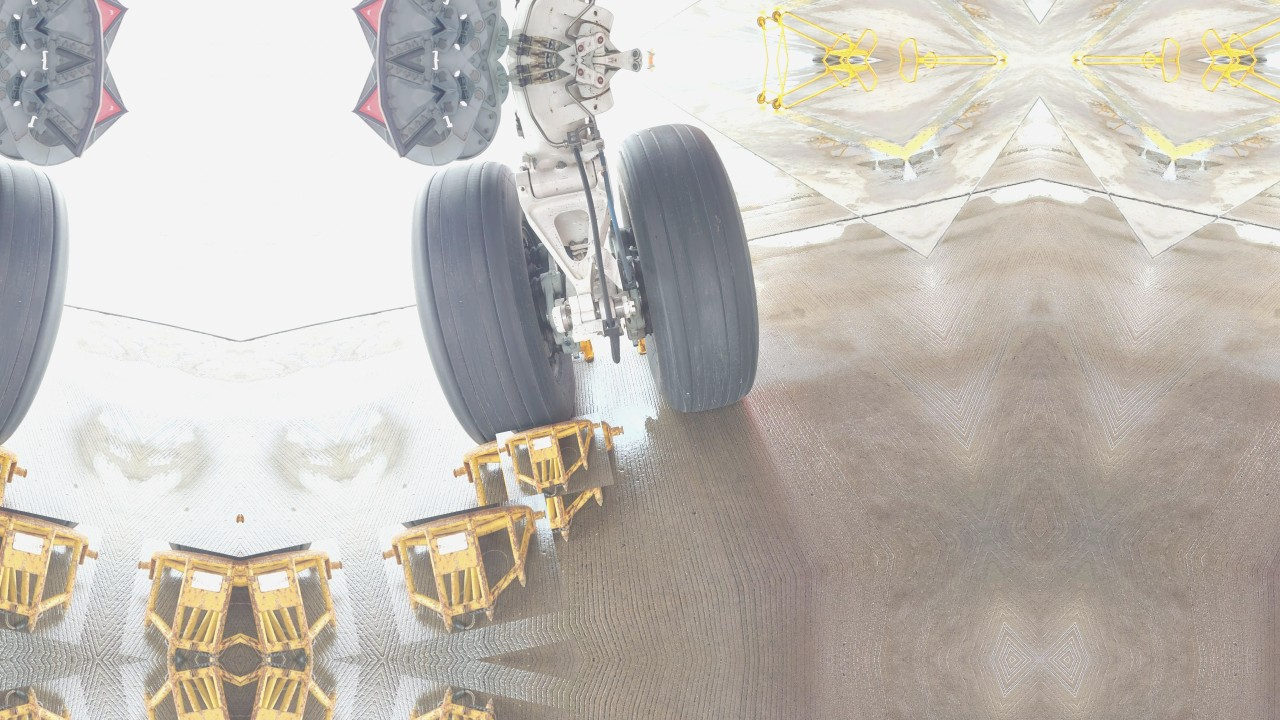chock: (447, 409, 647, 567), (377, 493, 568, 645), (0, 493, 103, 645), (119, 537, 240, 660), (240, 537, 361, 660), (495, 412, 614, 506), (377, 675, 568, 720), (119, 660, 240, 720), (240, 660, 361, 720), (0, 409, 33, 567), (0, 675, 103, 720)
wheel: (599, 109, 784, 427), (391, 150, 583, 448), (0, 150, 89, 448)
